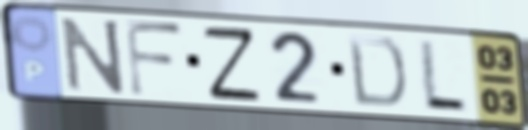2: (269, 29, 330, 106)
D: (344, 32, 410, 111)
F: (121, 16, 188, 100)
L: (416, 37, 471, 115)
N: (58, 15, 129, 95)
Z: (199, 25, 264, 103)
